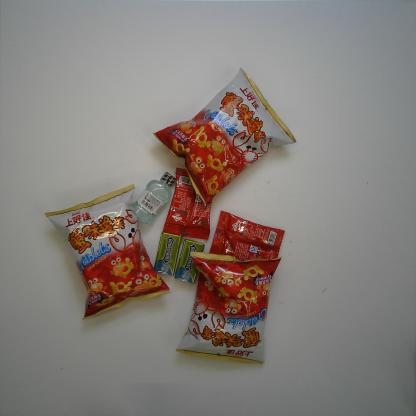Gum: (174, 238, 205, 284), (153, 232, 182, 276)
Instant Drink: (207, 210, 286, 275), (162, 166, 213, 240)
Personal Hygiene: (131, 171, 177, 225)
Puffed Food: (152, 66, 298, 209), (44, 183, 171, 320), (175, 251, 283, 366)
